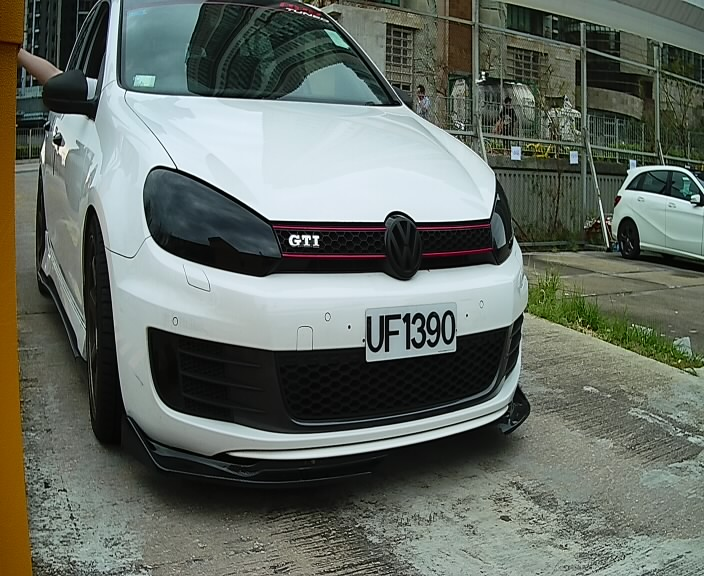Car: (31, 0, 553, 518)
License Plate: (348, 297, 474, 373)
